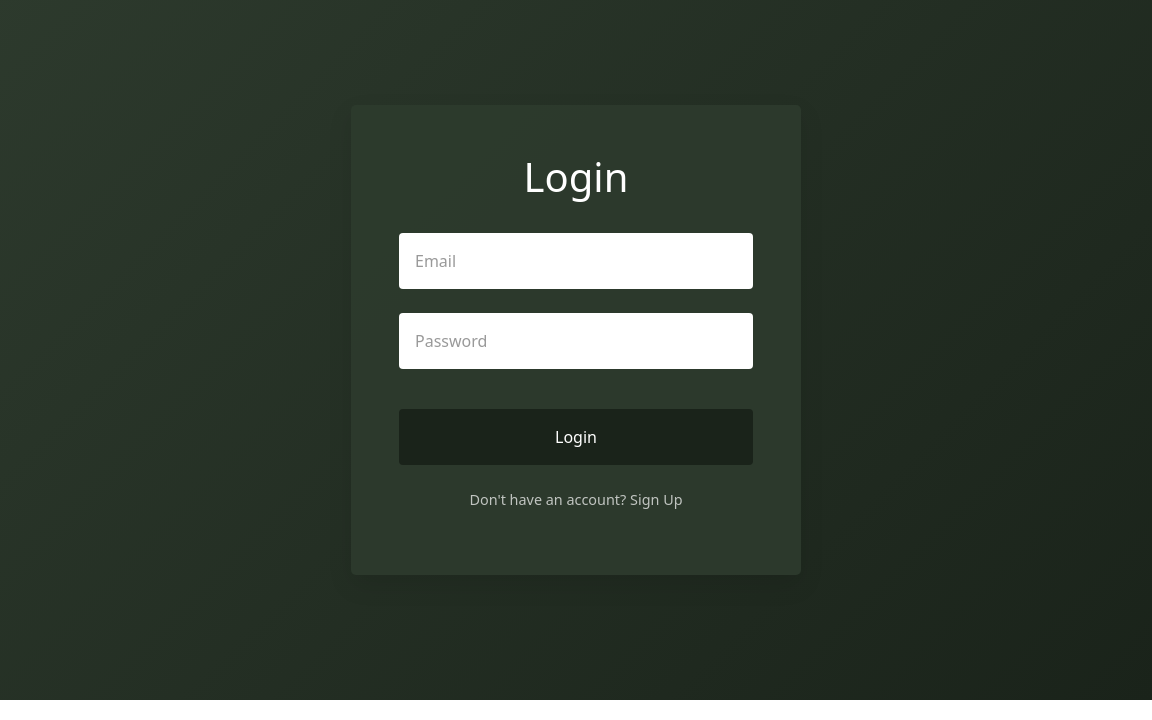
Test case: SignUp component › Email must be minimum of 4 characters long
The image size is (1152, 720).
Click the text "Don't have an account? Sign Up". click: click(576, 500)
box: [470,489,682,511]
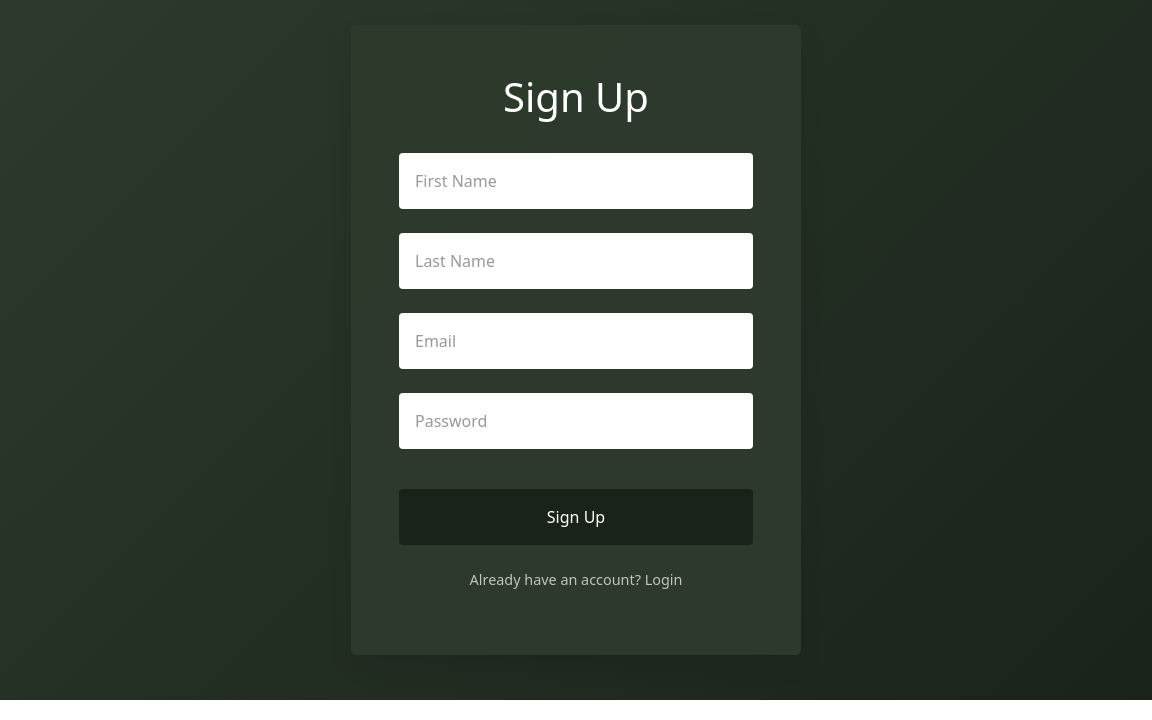
Type "Peter" into the field with placeholder "First Name". click: (576, 181)
box: [399,153,753,209]
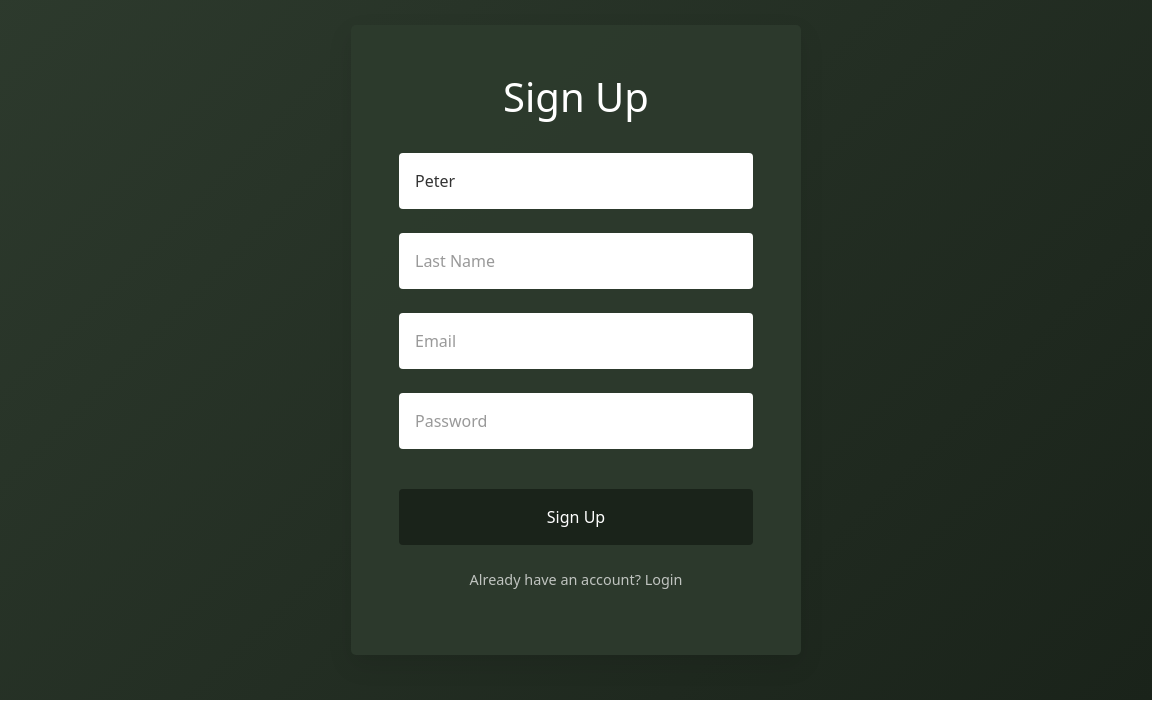
Type "Parker" into the field with placeholder "Last Name". click: (576, 261)
box: [399,233,753,289]
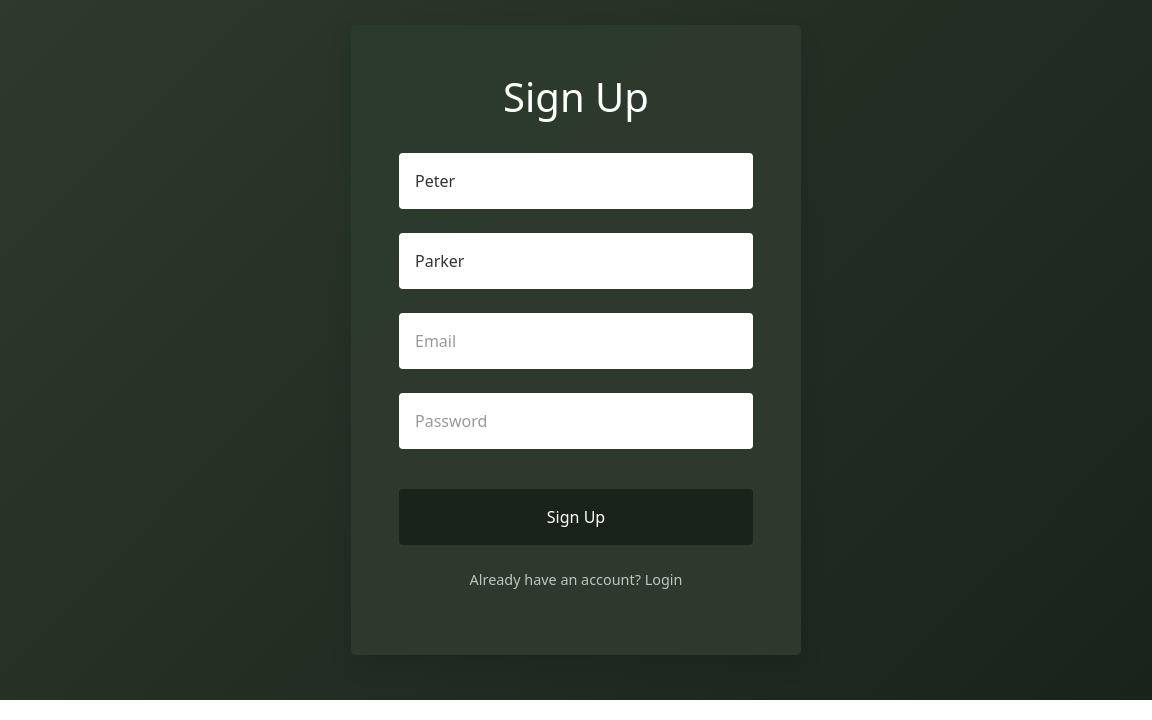
Type "h@gmail.com" into the field with placeholder "Email". click: (576, 341)
box: [399,313,753,369]
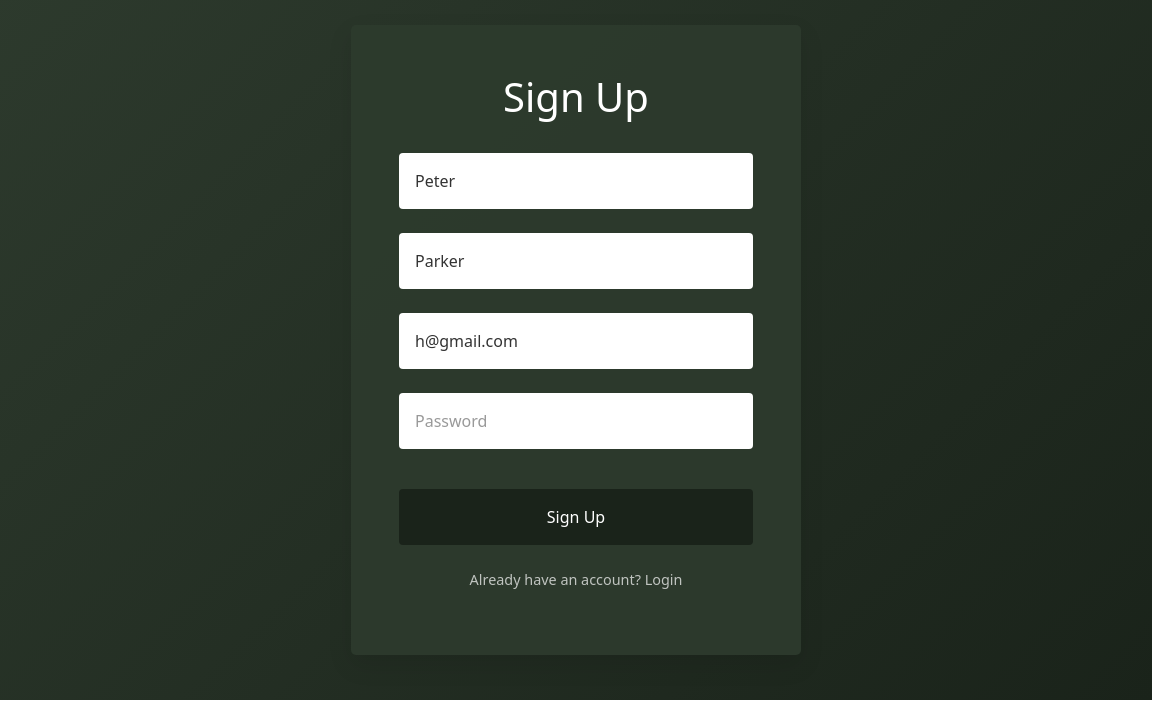
Type "123456789!" into the password field with placeholder "Password". click: (576, 421)
box: [399,393,753,449]
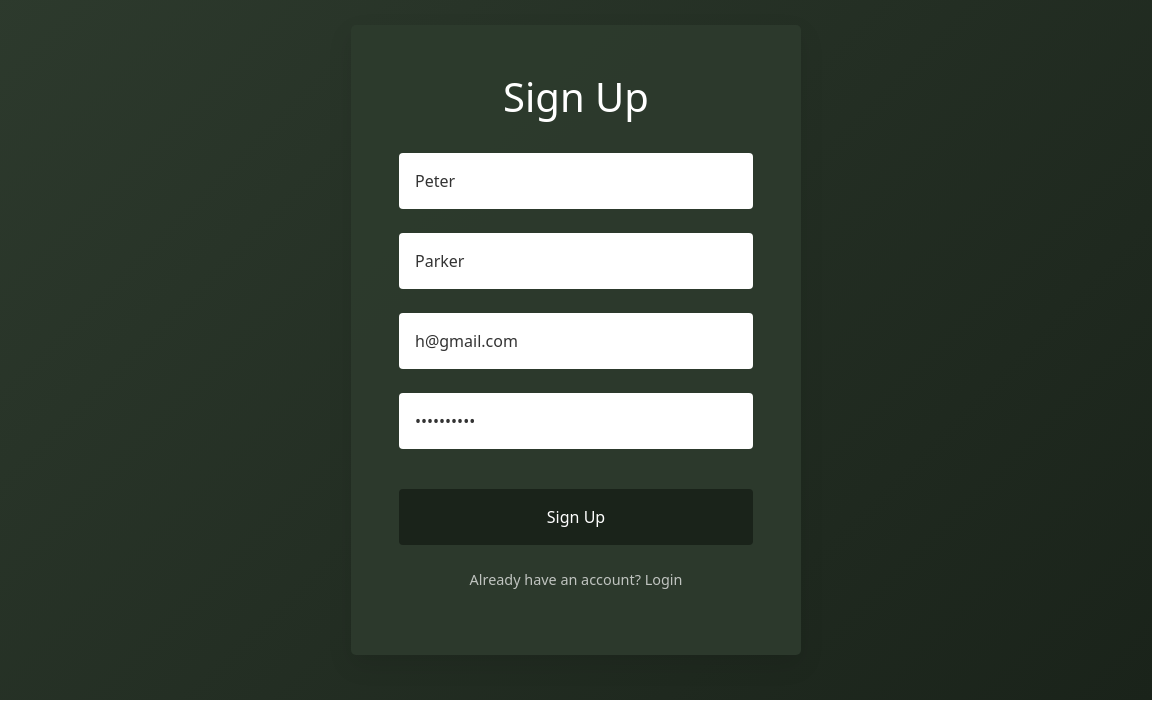
Click the button "Sign Up". click: click(576, 517)
box: [399,489,753,545]
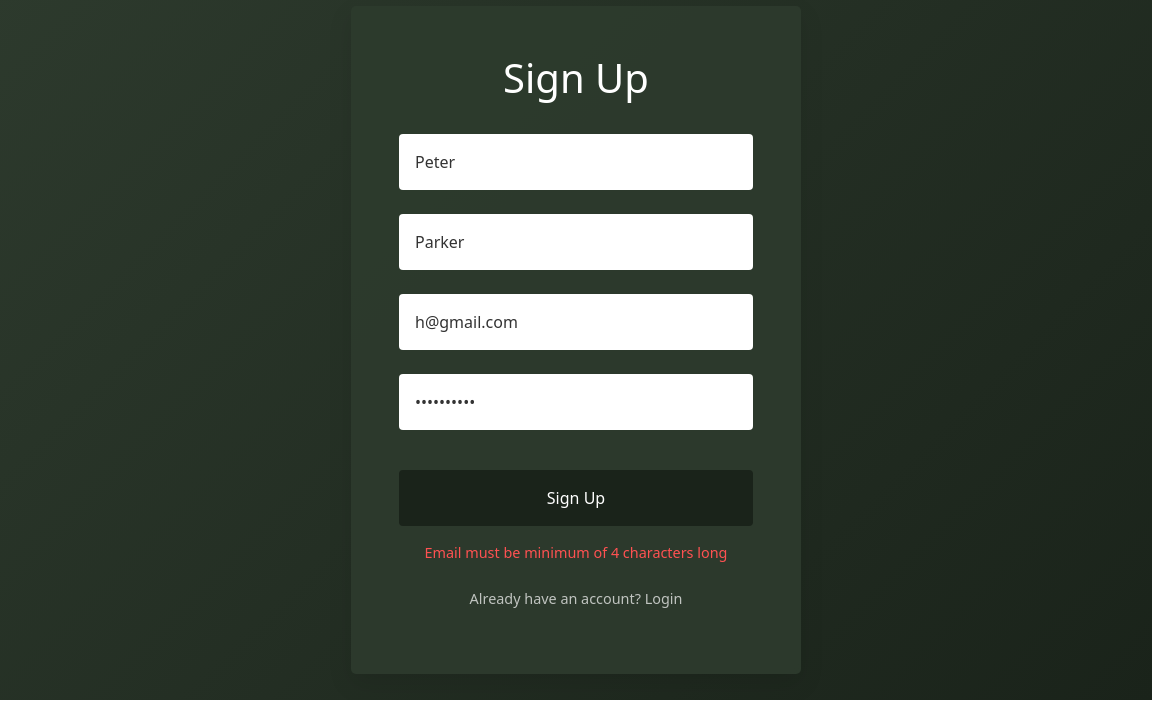
Check: the text "Email must be minimum of 4 characters long" is shown, box [399,542,753,564]
